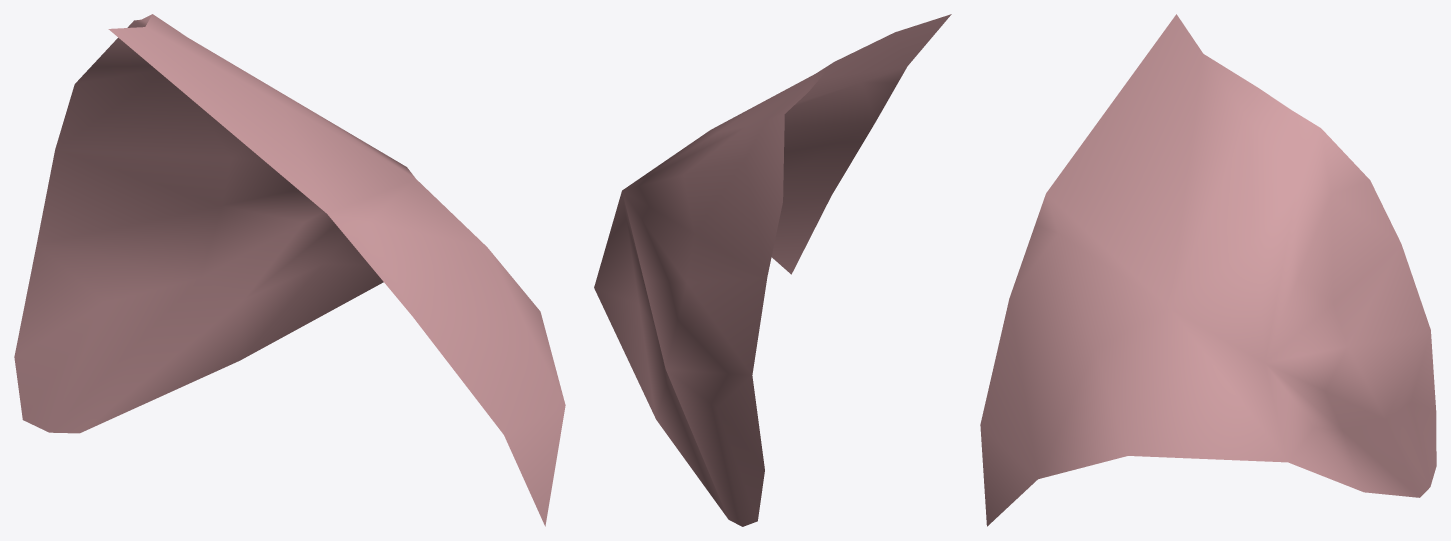
3 views of the same model, side by side, from view 1: azimuth 30°, elevation 25°; view 2: azimuth 150°, elevation 25°; view 3: azimuth 270°, elevation 25° (orthographic). The views are drawn at different scales.
Visible parts, largest first — view 1: ZA_92c892feafdf6bee; view 2: ZA_92c892feafdf6bee; view 3: ZA_92c892feafdf6bee.
Part boxes in pixels (bbox=[...]): ZA_92c892feafdf6bee: bbox=[14, 14, 565, 526]; ZA_92c892feafdf6bee: bbox=[594, 14, 951, 526]; ZA_92c892feafdf6bee: bbox=[980, 14, 1436, 526].
Size of the model in its own units: 0.00671 by 0.00872 by 0.00828.
